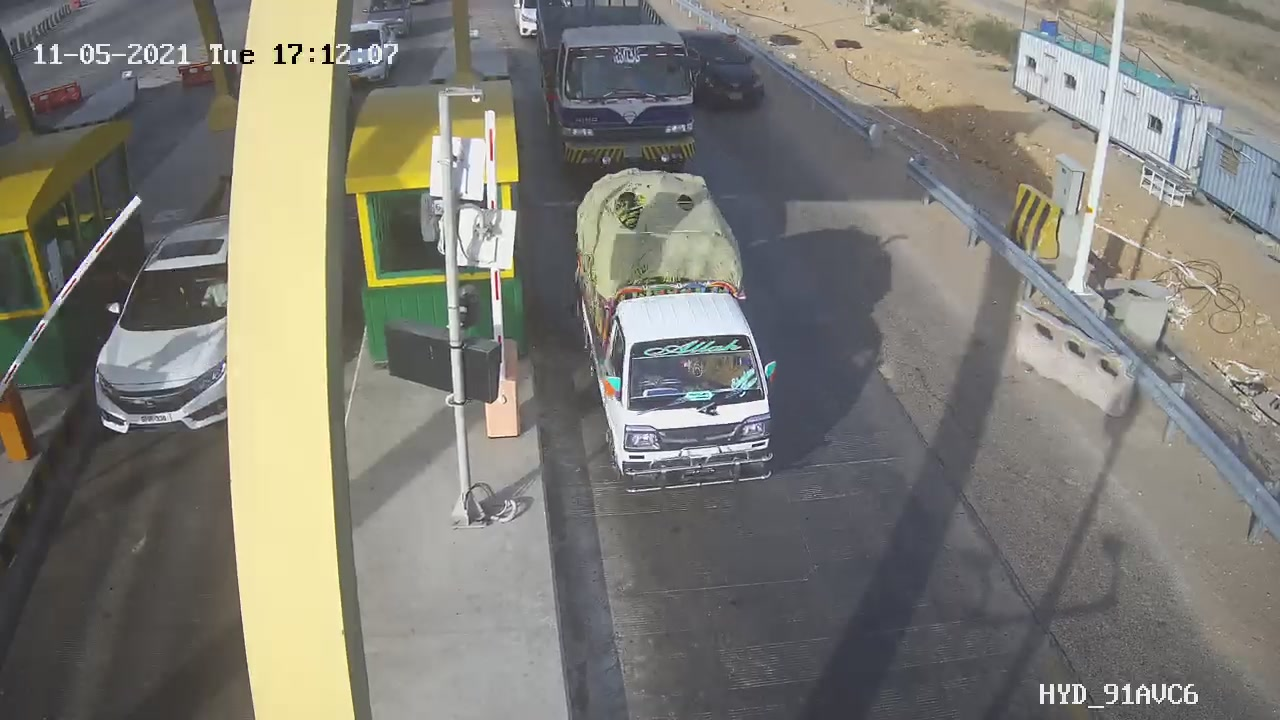F1: (551, 152, 812, 512)
